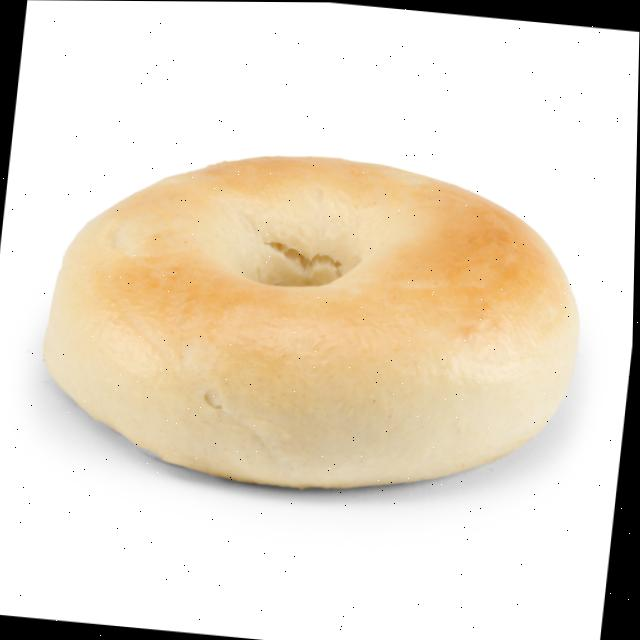Bagel: (45, 156, 580, 487)
